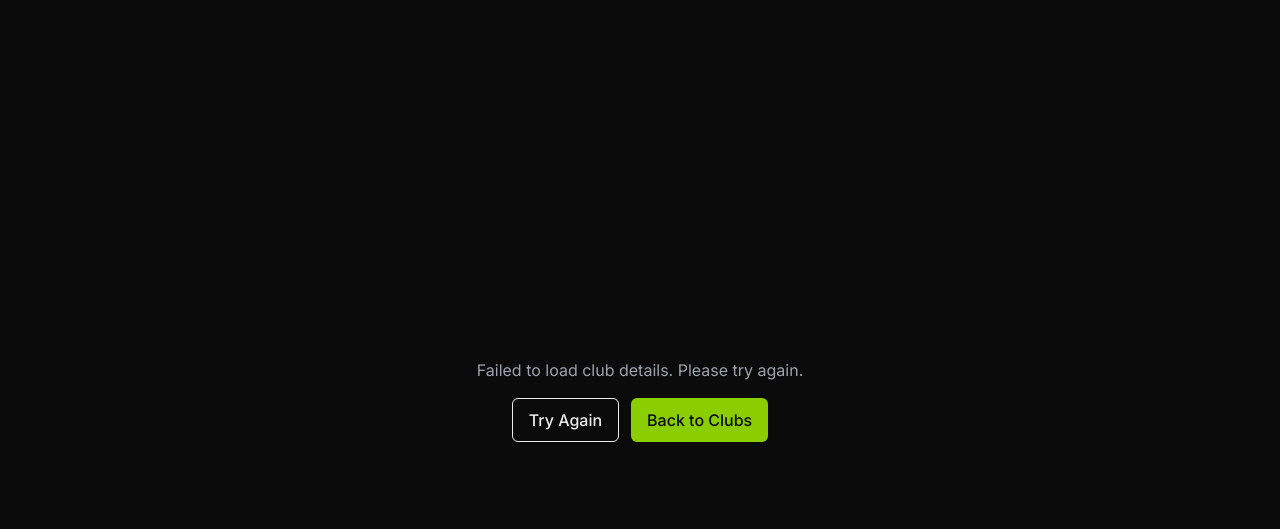
Test case: venue detail retry behavior › retries club detail loading after failure
Expected: the text "Failed to load club details. Please try again." is shown, [477,358,803,382]
Click the button "Try Again" at (565, 420), box [512,398,619,442]
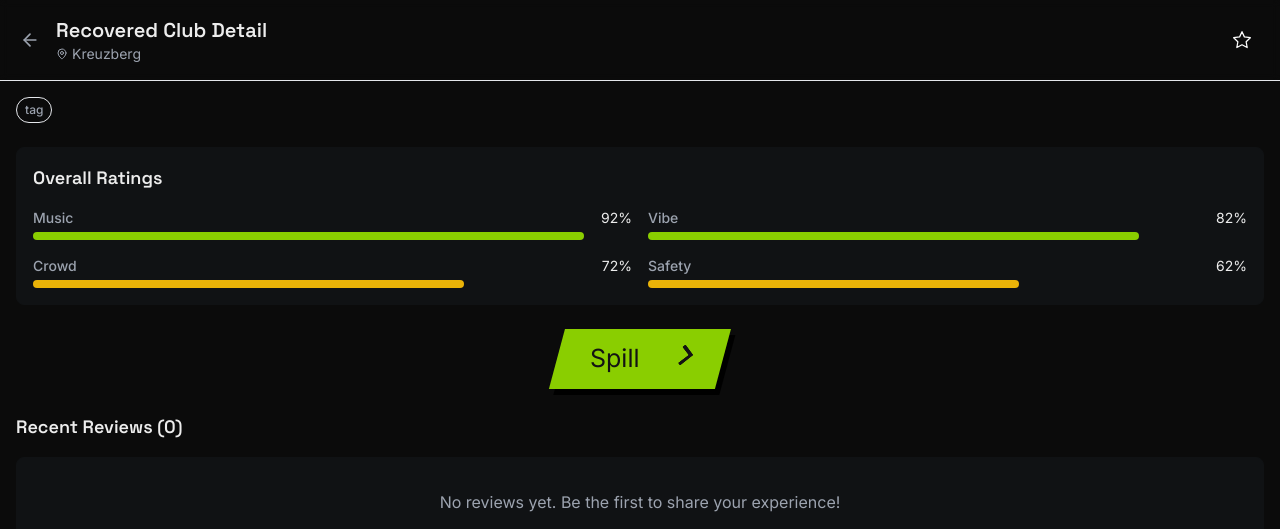
Expected: the heading "Recovered Club Detail" is shown, [56,16,267,44]
